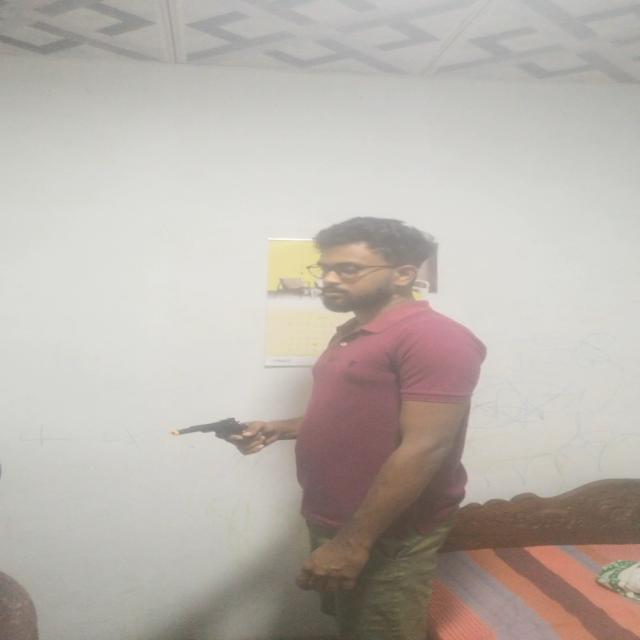Gun_Holder: (165, 414, 274, 453)
Person: (231, 214, 488, 640)
